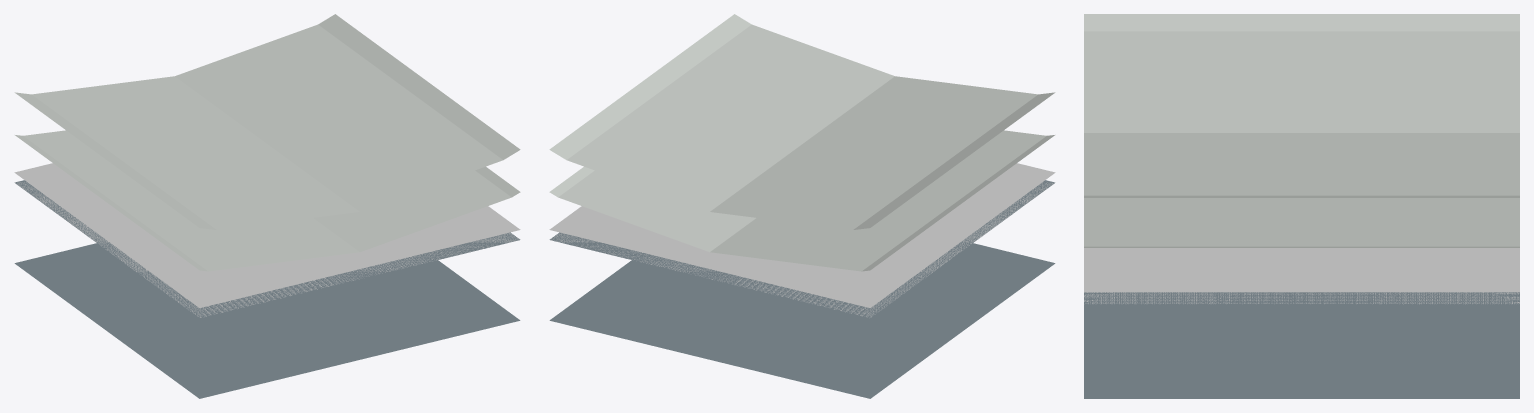
File: cell_17.obj
3 views of the same model, side by side, from view 1: azimuth 30°, elevation 25°; view 2: azimuth 150°, elevation 25°; view 3: azimuth 270°, elevation 25° (orthographic). The views are drawn at different scales.
Bounding box in the file's own units: 1 × 0.5086 × 1.
